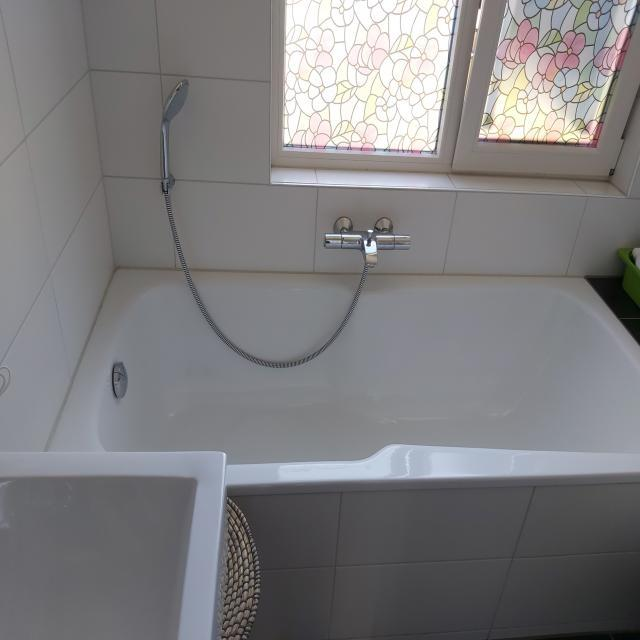bath: (47, 213, 640, 554)
wastafel: (0, 448, 228, 640)
